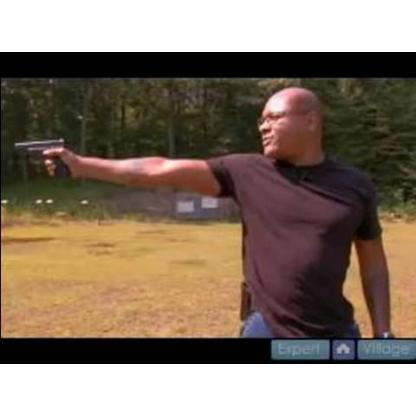gun: (13, 136, 68, 178)
